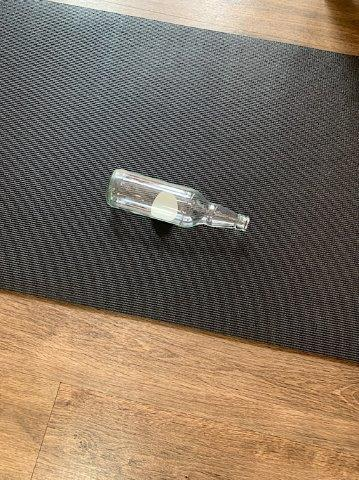botolkaca: (103, 168, 252, 231)
